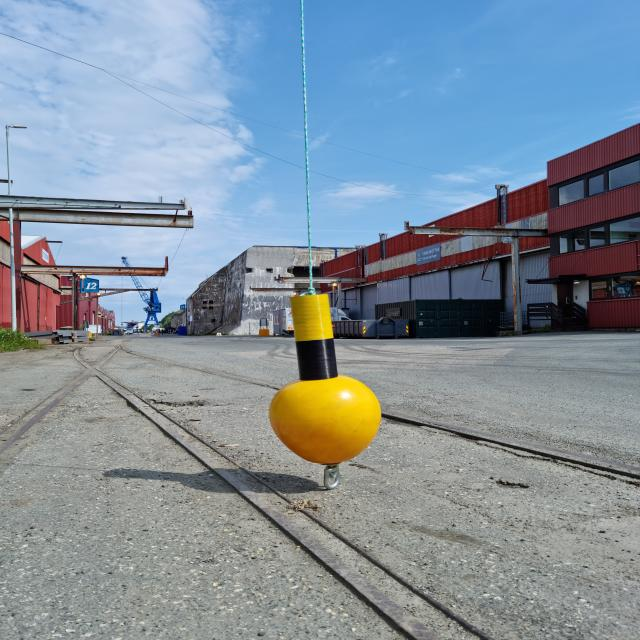west: (268, 293, 386, 465)
